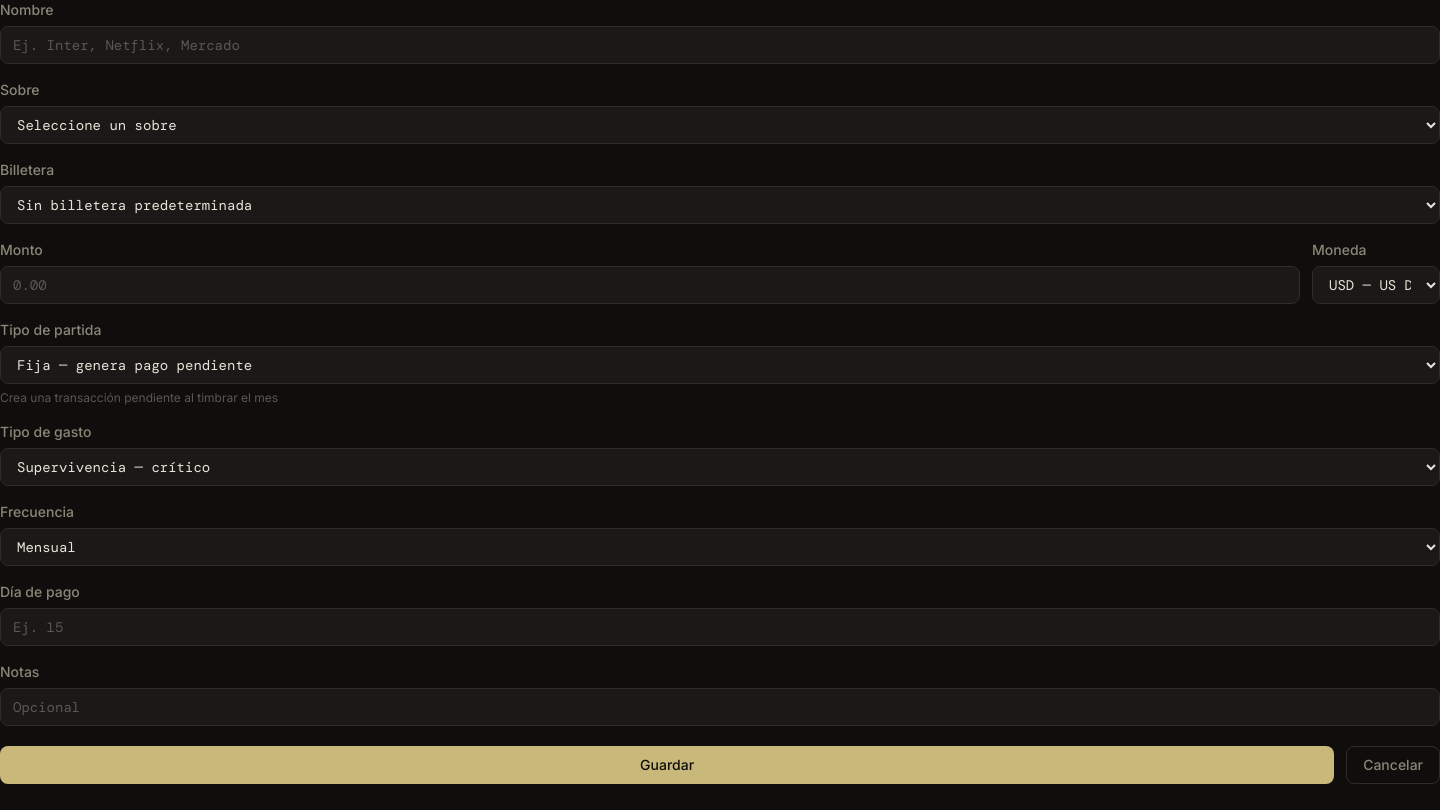
Test: BudgetForm › requires a month for annual items
Select "🏠 Hogar" in the dropdown labelled "Sobre" at (720, 125), box x1=0 y1=106 x2=1439 y2=144
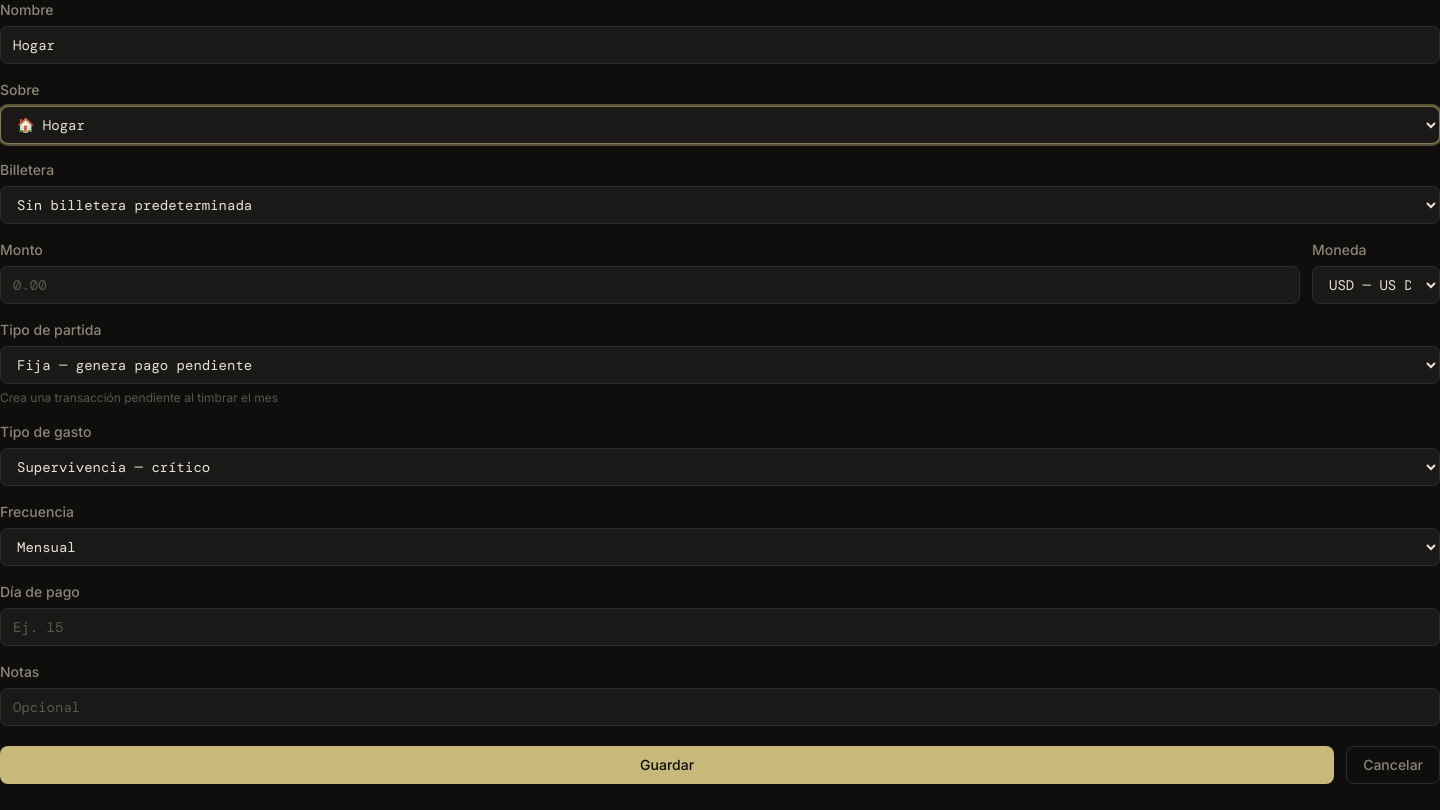
Select "Anual" in the dropdown labelled "Frecuencia" at (720, 547), box x1=0 y1=528 x2=1439 y2=566
(page scrolled)
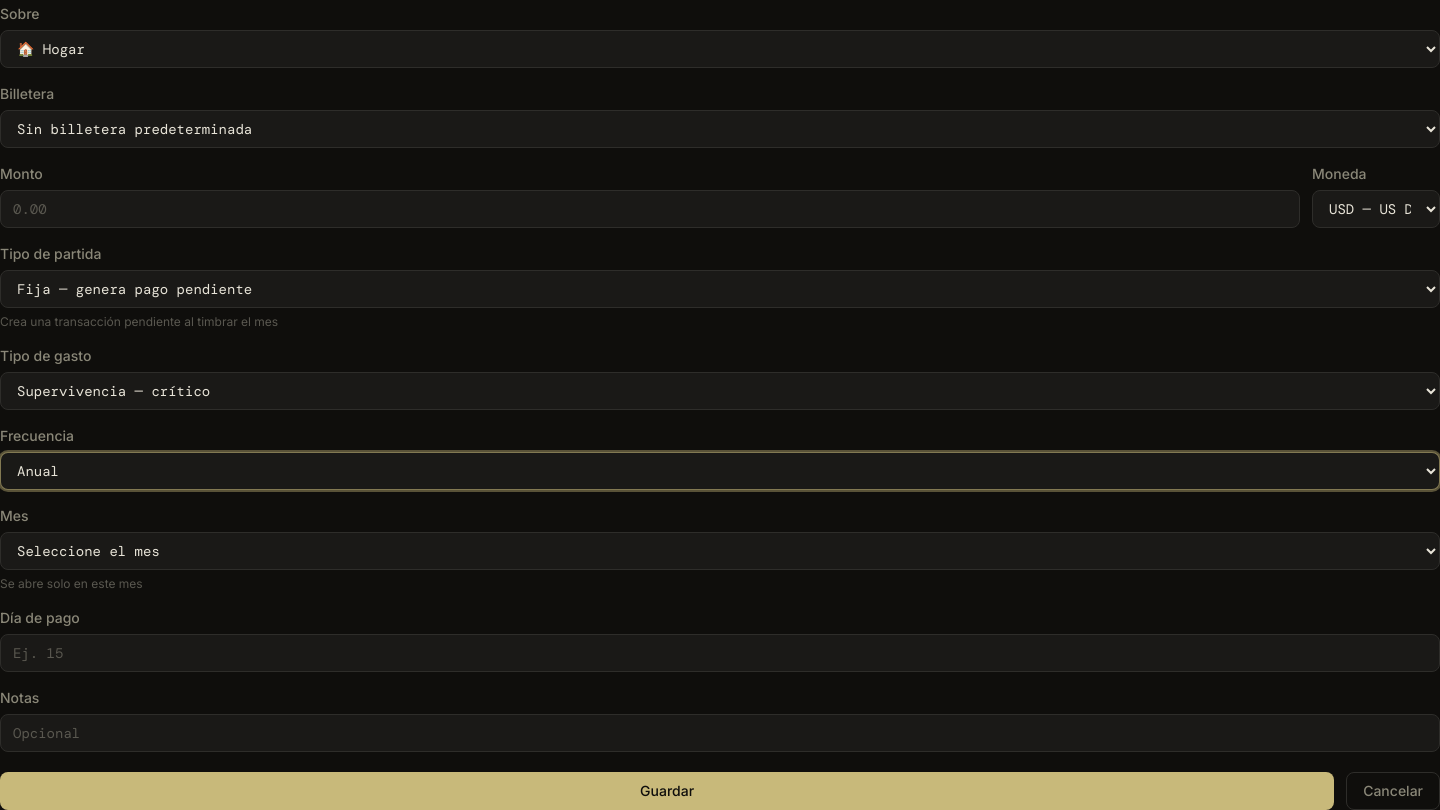
Click the button "Guardar".
click(667, 791)  # box x1=0 y1=772 x2=1334 y2=809
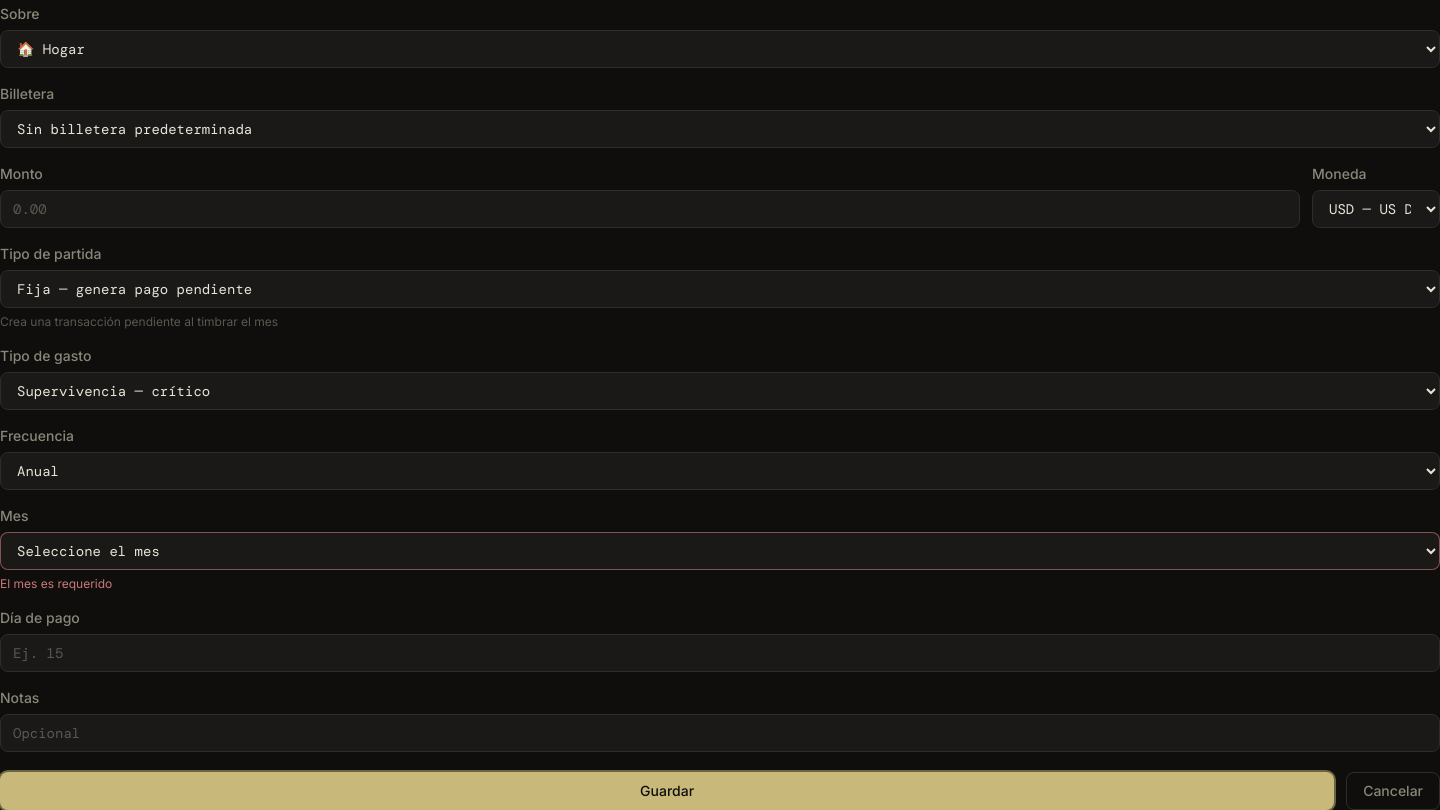
Now the text "El mes es requerido" is shown, box x1=0 y1=576 x2=112 y2=591
